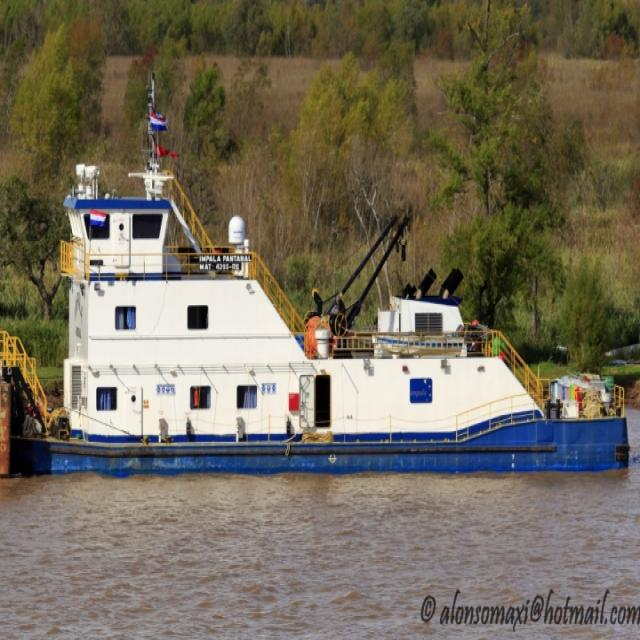tugboat: (1, 156, 637, 500)
